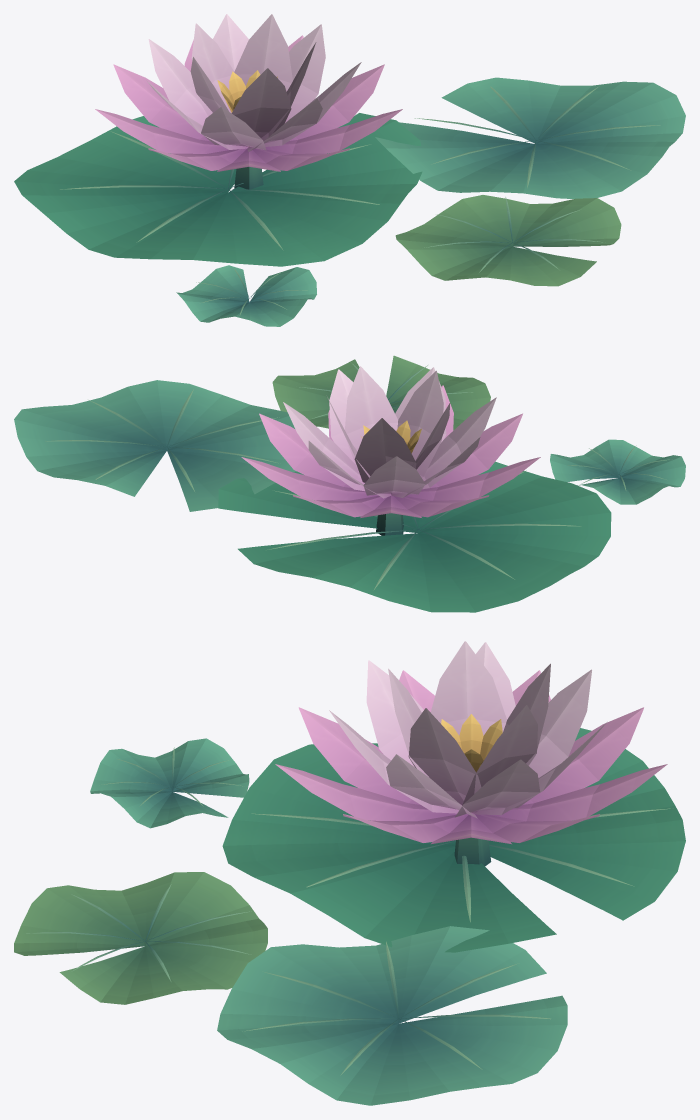
File: SM_StarlotusRaft.fbx
3 renders of one model, top to bottom at view 1: azimuth 30°, elevation 25°; view 2: azimuth 150°, elevation 25°; view 3: azimuth 270°, elevation 25°, orthographic. The views are drawn at different scales.
Visible parts, largest first — view 1: SM_StarlotusRaft; view 2: SM_StarlotusRaft; view 3: SM_StarlotusRaft.
Part boxes in pixels (<box>): SM_StarlotusRaft: <box>14,14,685,326</box>; SM_StarlotusRaft: <box>14,355,685,612</box>; SM_StarlotusRaft: <box>14,641,685,1105</box>.
Bounding box in the file's own units: 97.28 × 74.19 × 22.91.
1 material, 1 textured.
